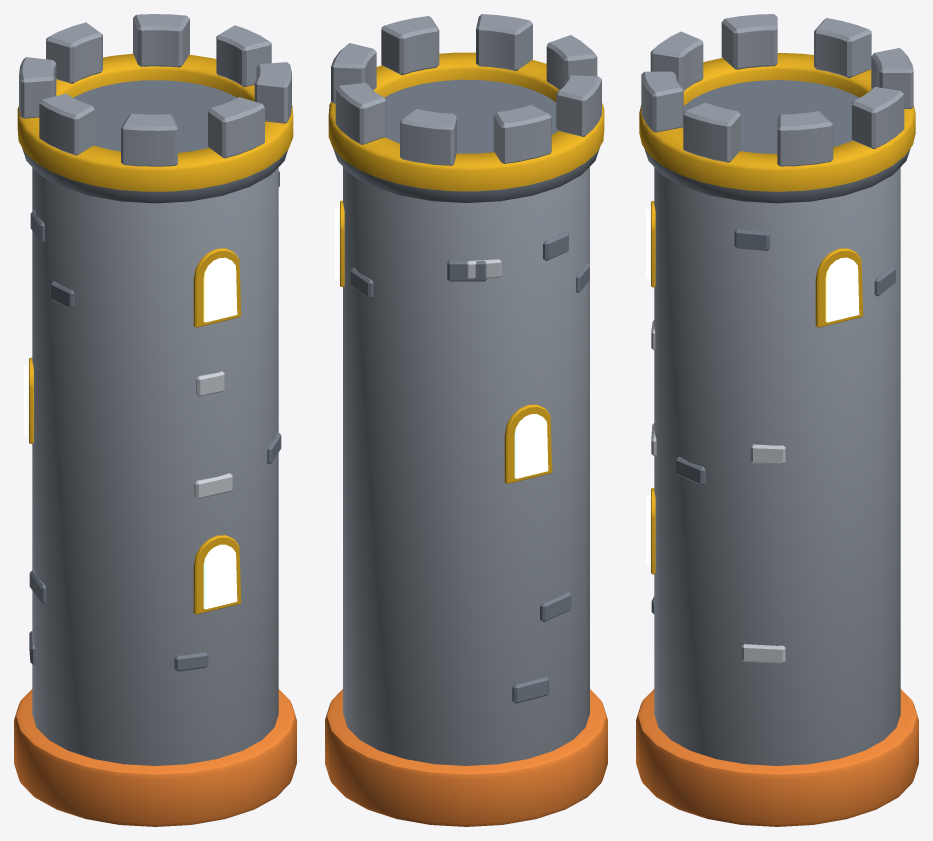
The model's file is castelo_torre_alta.glb.
3 renders of one model, left to right at view 1: azimuth 30°, elevation 25°; view 2: azimuth 150°, elevation 25°; view 3: azimuth 270°, elevation 25°, orthographic.
Visible parts, largest first — view 1: castelo_torre_alta; view 2: castelo_torre_alta; view 3: castelo_torre_alta.
Part boxes in pixels (<box>): castelo_torre_alta: <box>14,14,296,826</box>; castelo_torre_alta: <box>325,14,607,826</box>; castelo_torre_alta: <box>636,14,918,826</box>.
Bounding box in the file's own units: 3.44 × 9.39 × 3.44.
Materials: 3 (1 with a texture image).
